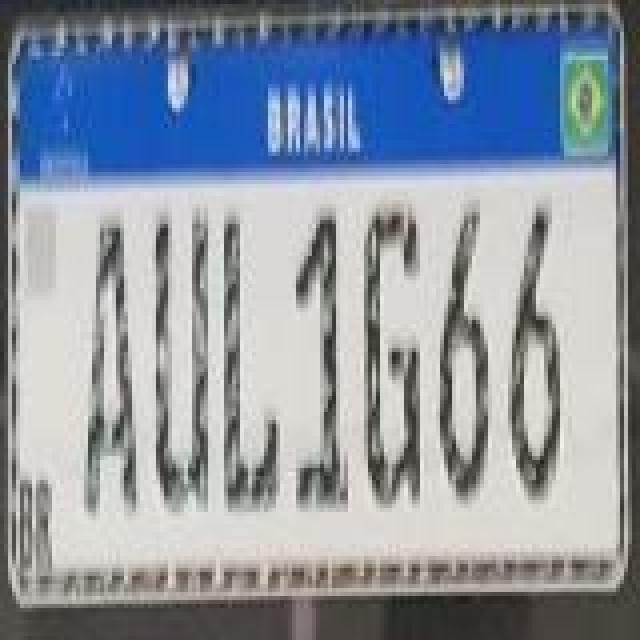1: (292, 210, 348, 518)
6: (434, 196, 494, 508), (508, 198, 564, 506)
A: (84, 220, 140, 516)
G: (364, 204, 420, 516)
L: (222, 206, 282, 522)
U: (156, 204, 212, 524)
